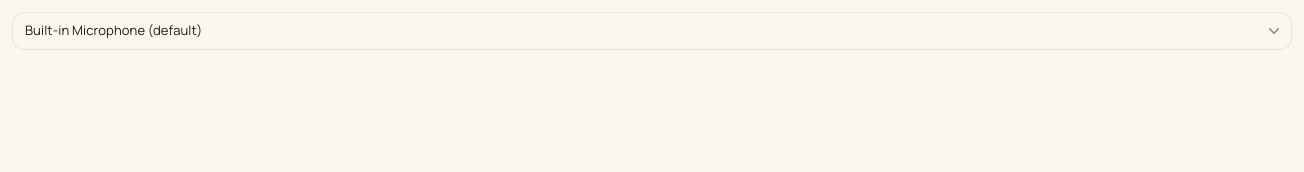
Test: MicDevicePicker › shows an inline error and keeps the last-known-good value on mutation error
Select "AirPods Pro" in the dropdown named "microphone". click: (652, 31)
box: [12,12,1292,50]
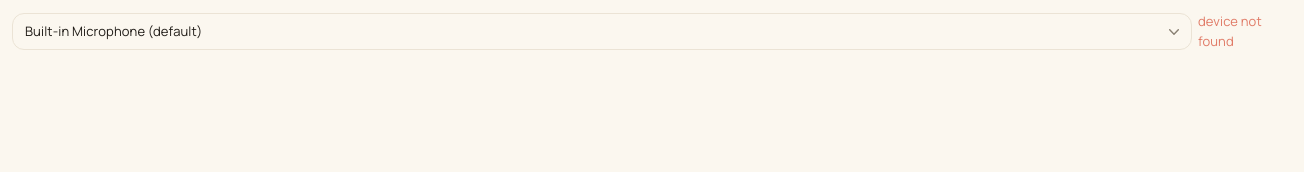
Now the text "device not found" is shown, box [1198,12,1262,50]
